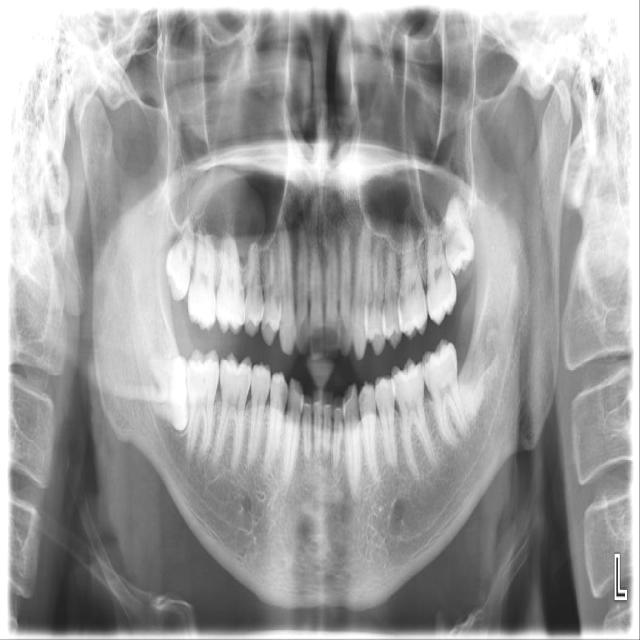impacted tooth: (136, 354, 189, 431), (444, 196, 477, 275)
